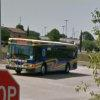Bus: (6, 33, 84, 79)
